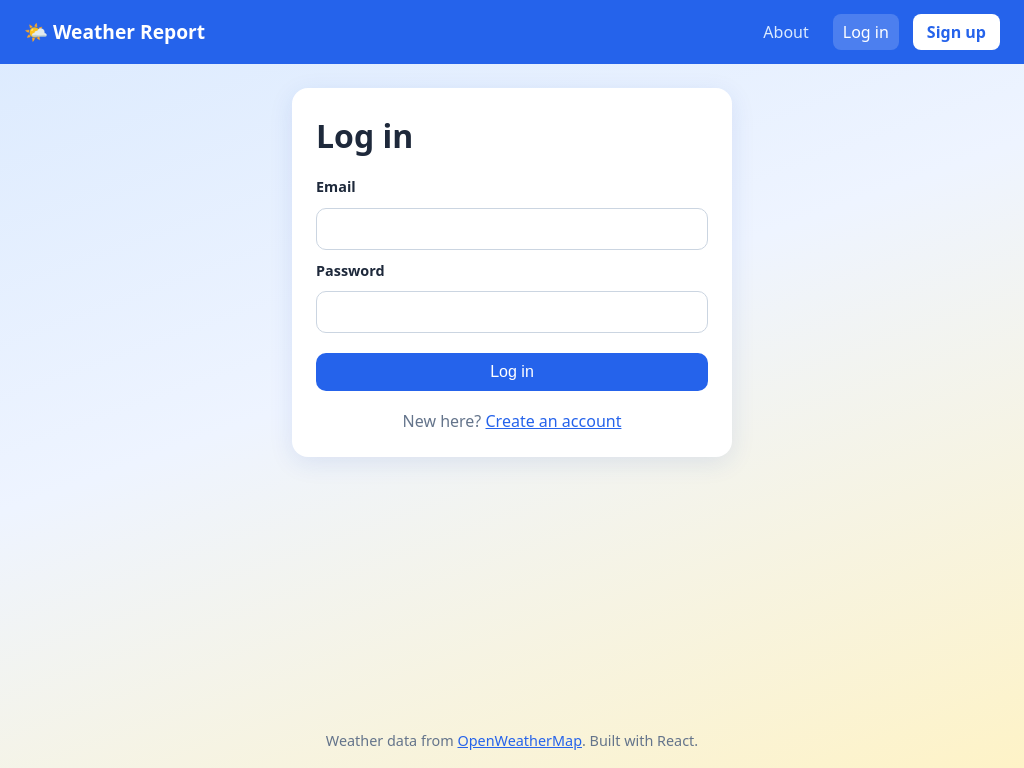
Test: Weather Report app › fetches and shows weather using axios with the city in the URL
The image size is (1024, 768).
Click the link "Sign up" at point(956, 32), box [913,14,1000,50]
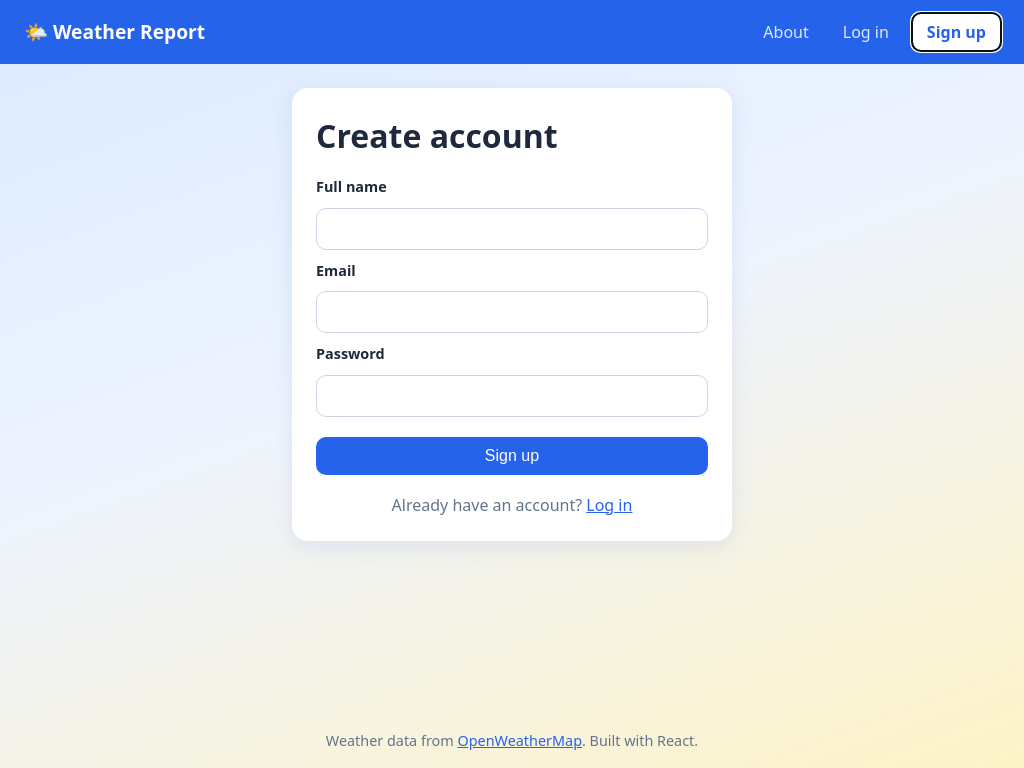
Type "Nivetha V" into the field labelled "Full name" at point(512, 229), box [316,208,708,250]
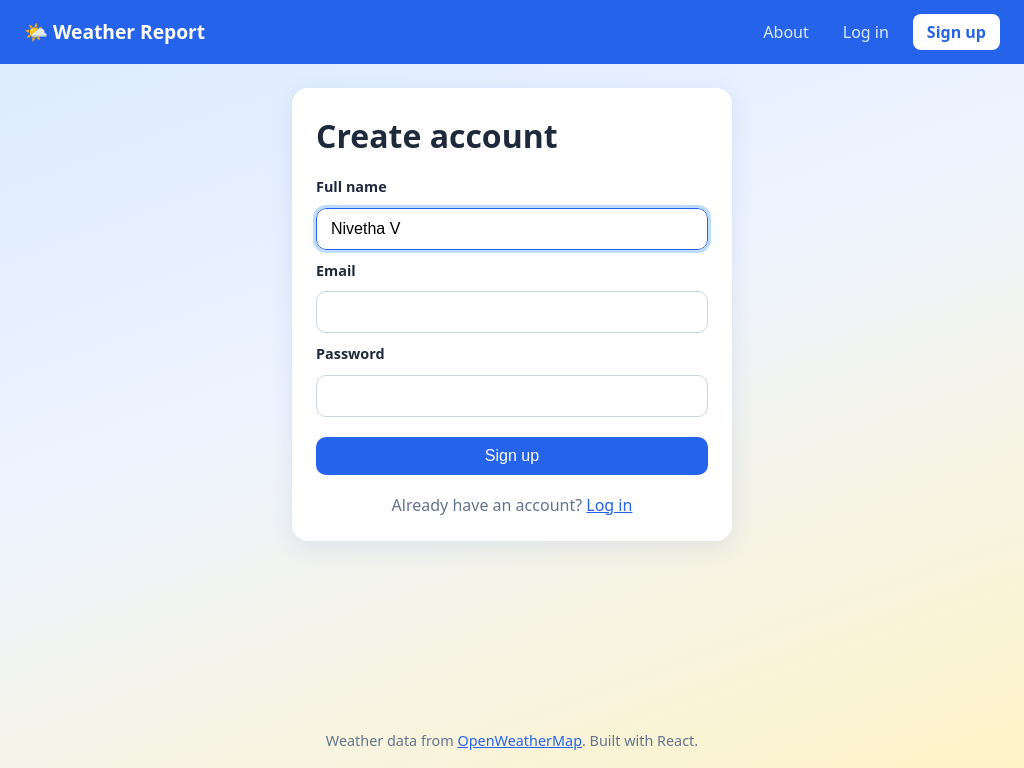
Type "nive@example.com" into the field labelled "Email" at point(512, 312), box [316,291,708,333]
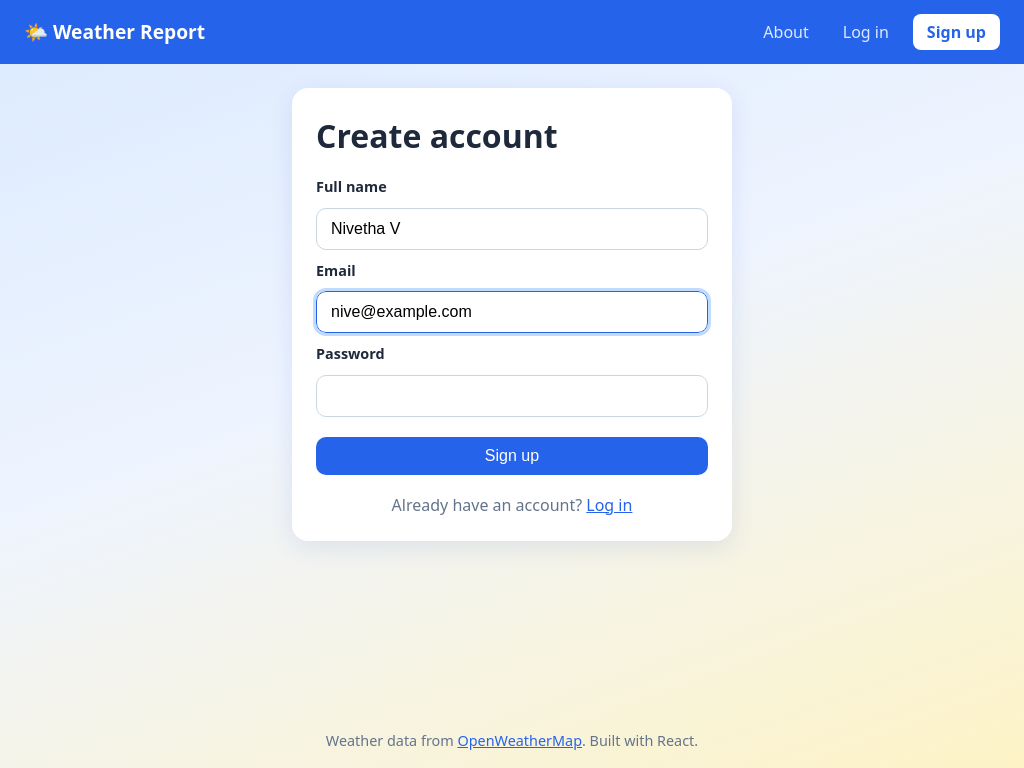
Type "secret123" into the password field labelled "Password" at point(512, 396), box [316,375,708,417]
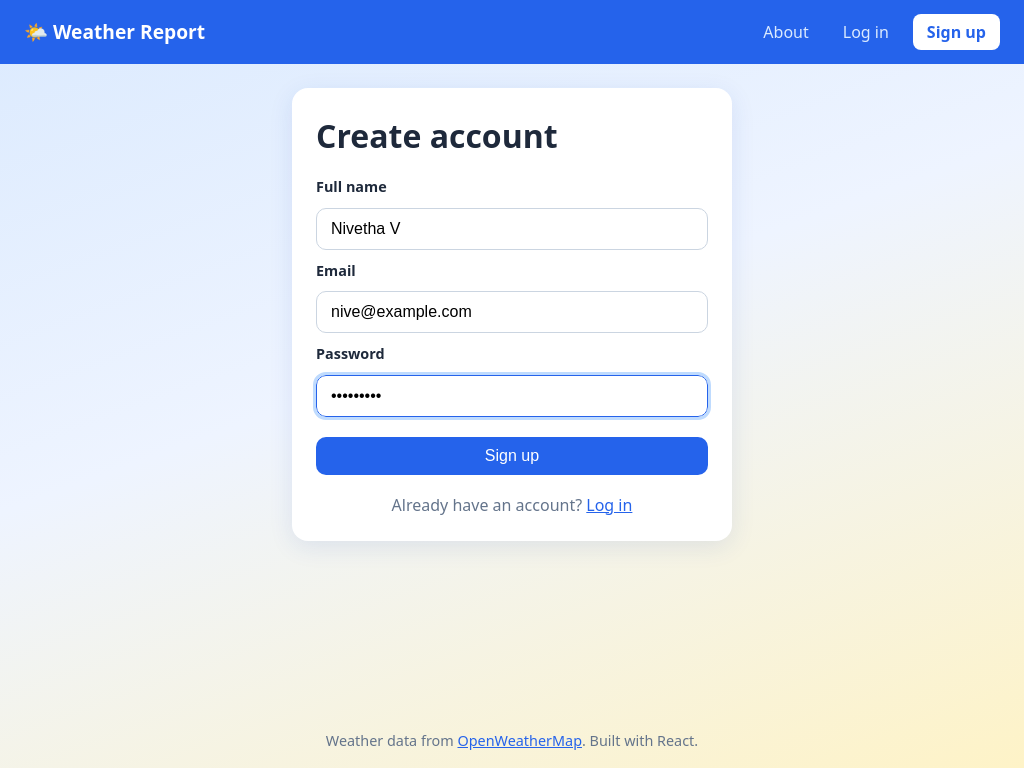
Click the button "Sign up" at point(512, 456), box [316,437,708,475]
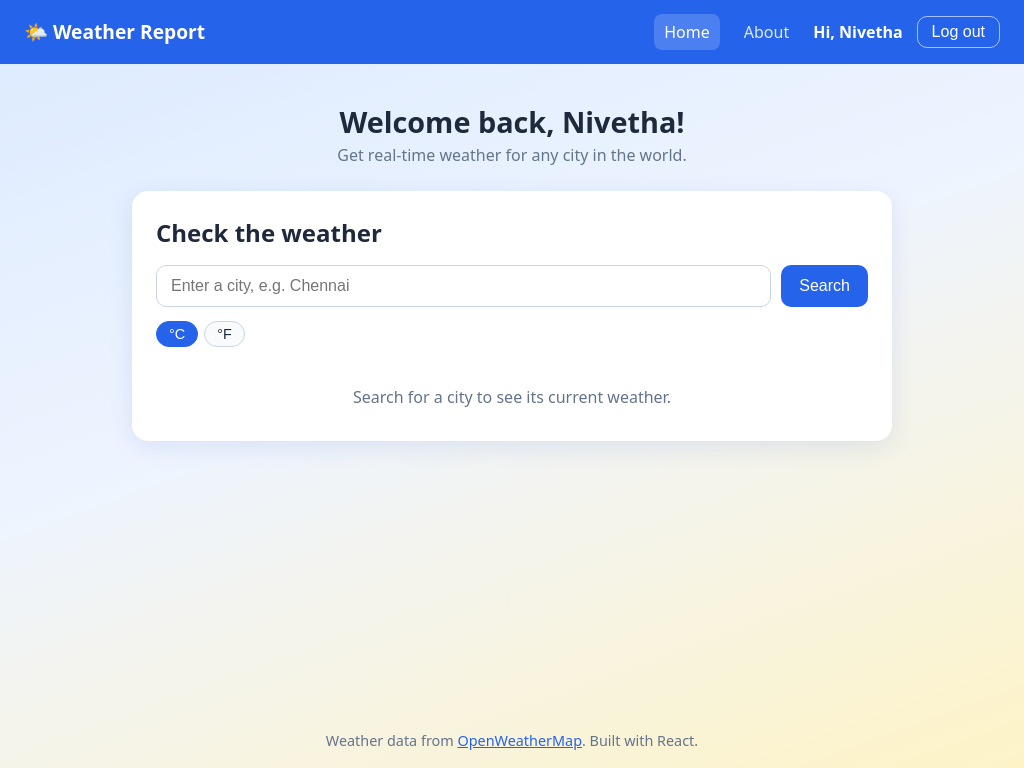
Type "Chennai" into the field named "city name" at point(464, 286), box [156,265,771,307]
Click the button "Search" at point(825, 286), box [781,265,868,307]
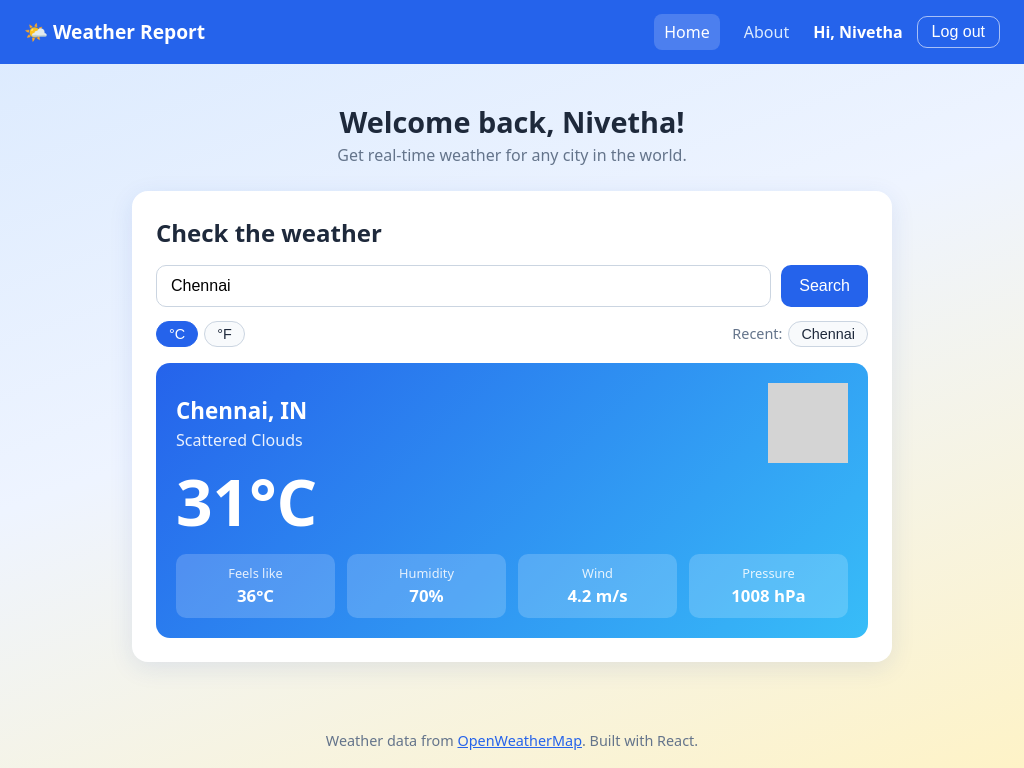
expect the heading "Chennai, IN" is shown: met, box [176,394,307,428]
expect the text "31°C" is shown: met, box [176,458,317,545]
expect the text "70%" is shown: met, box [409,584,444,607]
